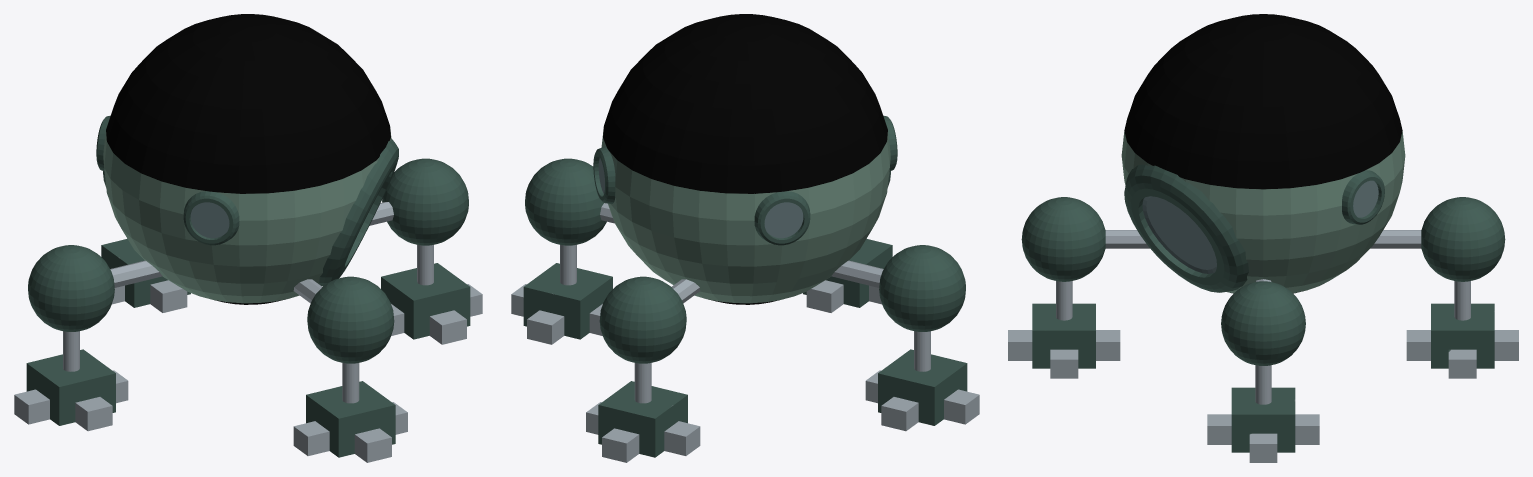
Rendered from ship2.fbx.
3 views of the same model, side by side, from view 1: azimuth 30°, elevation 25°; view 2: azimuth 150°, elevation 25°; view 3: azimuth 270°, elevation 25° (orthographic). The views are drawn at different scales.
Visible parts, largest first — view 1: Sphere.003; view 2: Sphere.003; view 3: Sphere.003.
Part boxes in pixels (<box>): Sphere.003: <box>14,14,482,462</box>; Sphere.003: <box>511,14,979,462</box>; Sphere.003: <box>1008,14,1518,462</box>.
Bounding box in the file's own units: 15.02 × 10.64 × 15.02.
